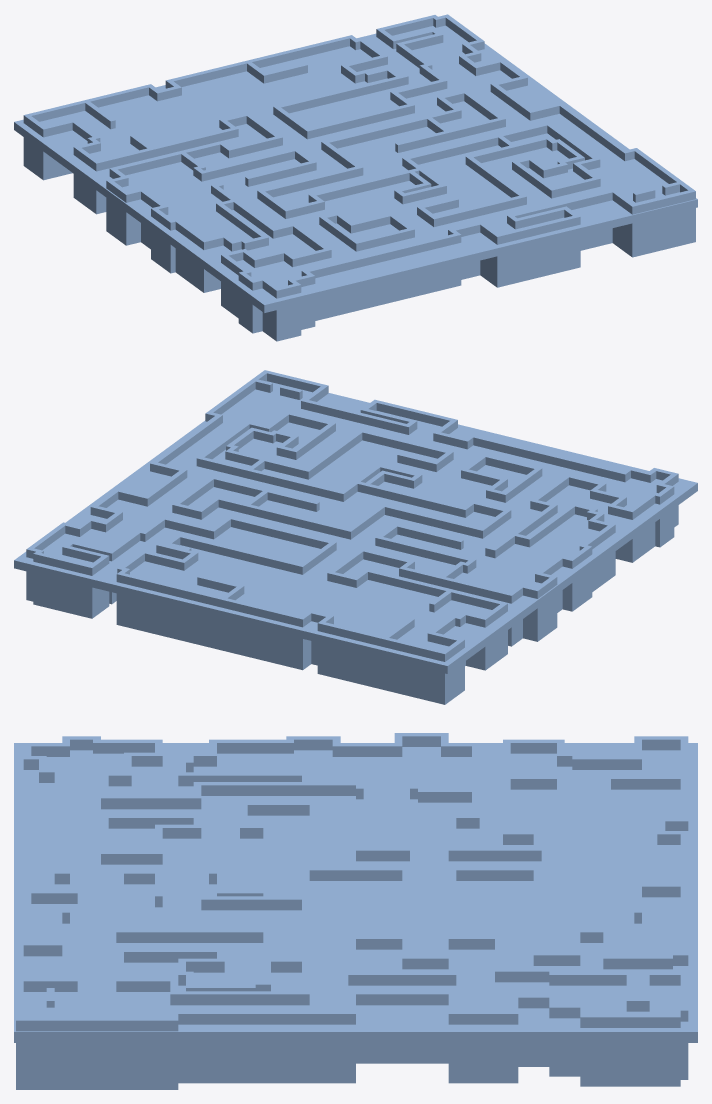
The model's file is Map - Copy.fbx.
3 renders of one model, top to bottom at view 1: azimuth 30°, elevation 25°; view 2: azimuth 150°, elevation 25°; view 3: azimuth 270°, elevation 25°, orthographic. The views are drawn at different scales.
Parts seen in each view (by area): view 1: Walls, Ceiling; view 2: Walls, Ceiling; view 3: Ceiling, Walls.
Boxes of the visible parts, x1,y1,x2,y2 form: Walls: (23,14,695,341); Ceiling: (14,25,697,312); Walls: (26,370,678,704); Ceiling: (14,381,697,673); Ceiling: (14,743,697,1042); Walls: (16,733,688,1089).
Size of the model in its own units: 7411 by 828 by 7411.
